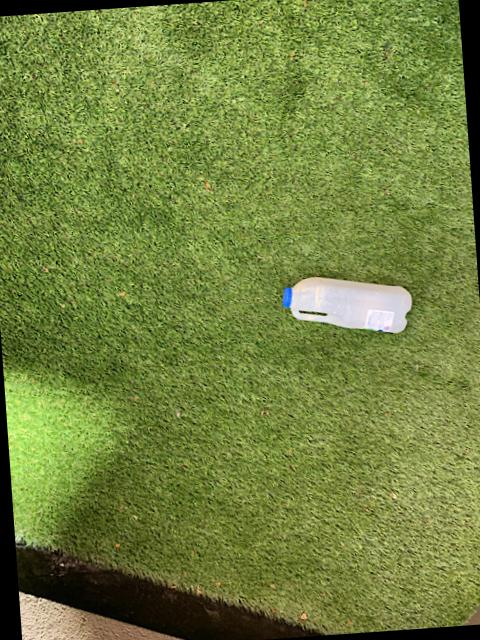plastic: (281, 278, 410, 333)
